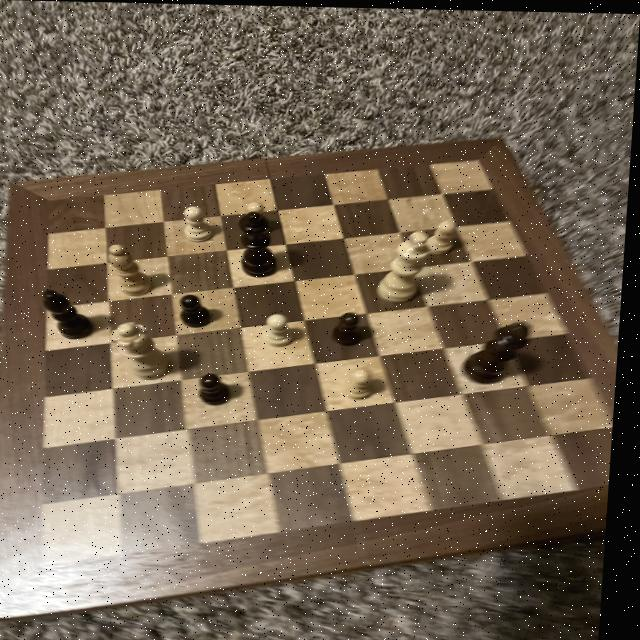bishop: (39, 284, 109, 345)
black-bishop: (464, 305, 539, 382)
black-knight: (180, 291, 224, 331), (332, 310, 378, 347), (201, 369, 239, 408)
black-pawn: (235, 211, 293, 284)
black-rook: (106, 240, 166, 297)
white-bishop: (371, 225, 440, 306)
white-knight: (178, 201, 223, 243), (343, 364, 386, 403), (265, 310, 306, 350), (431, 212, 466, 257), (244, 199, 279, 235)
white-pawn: (109, 320, 182, 383)
